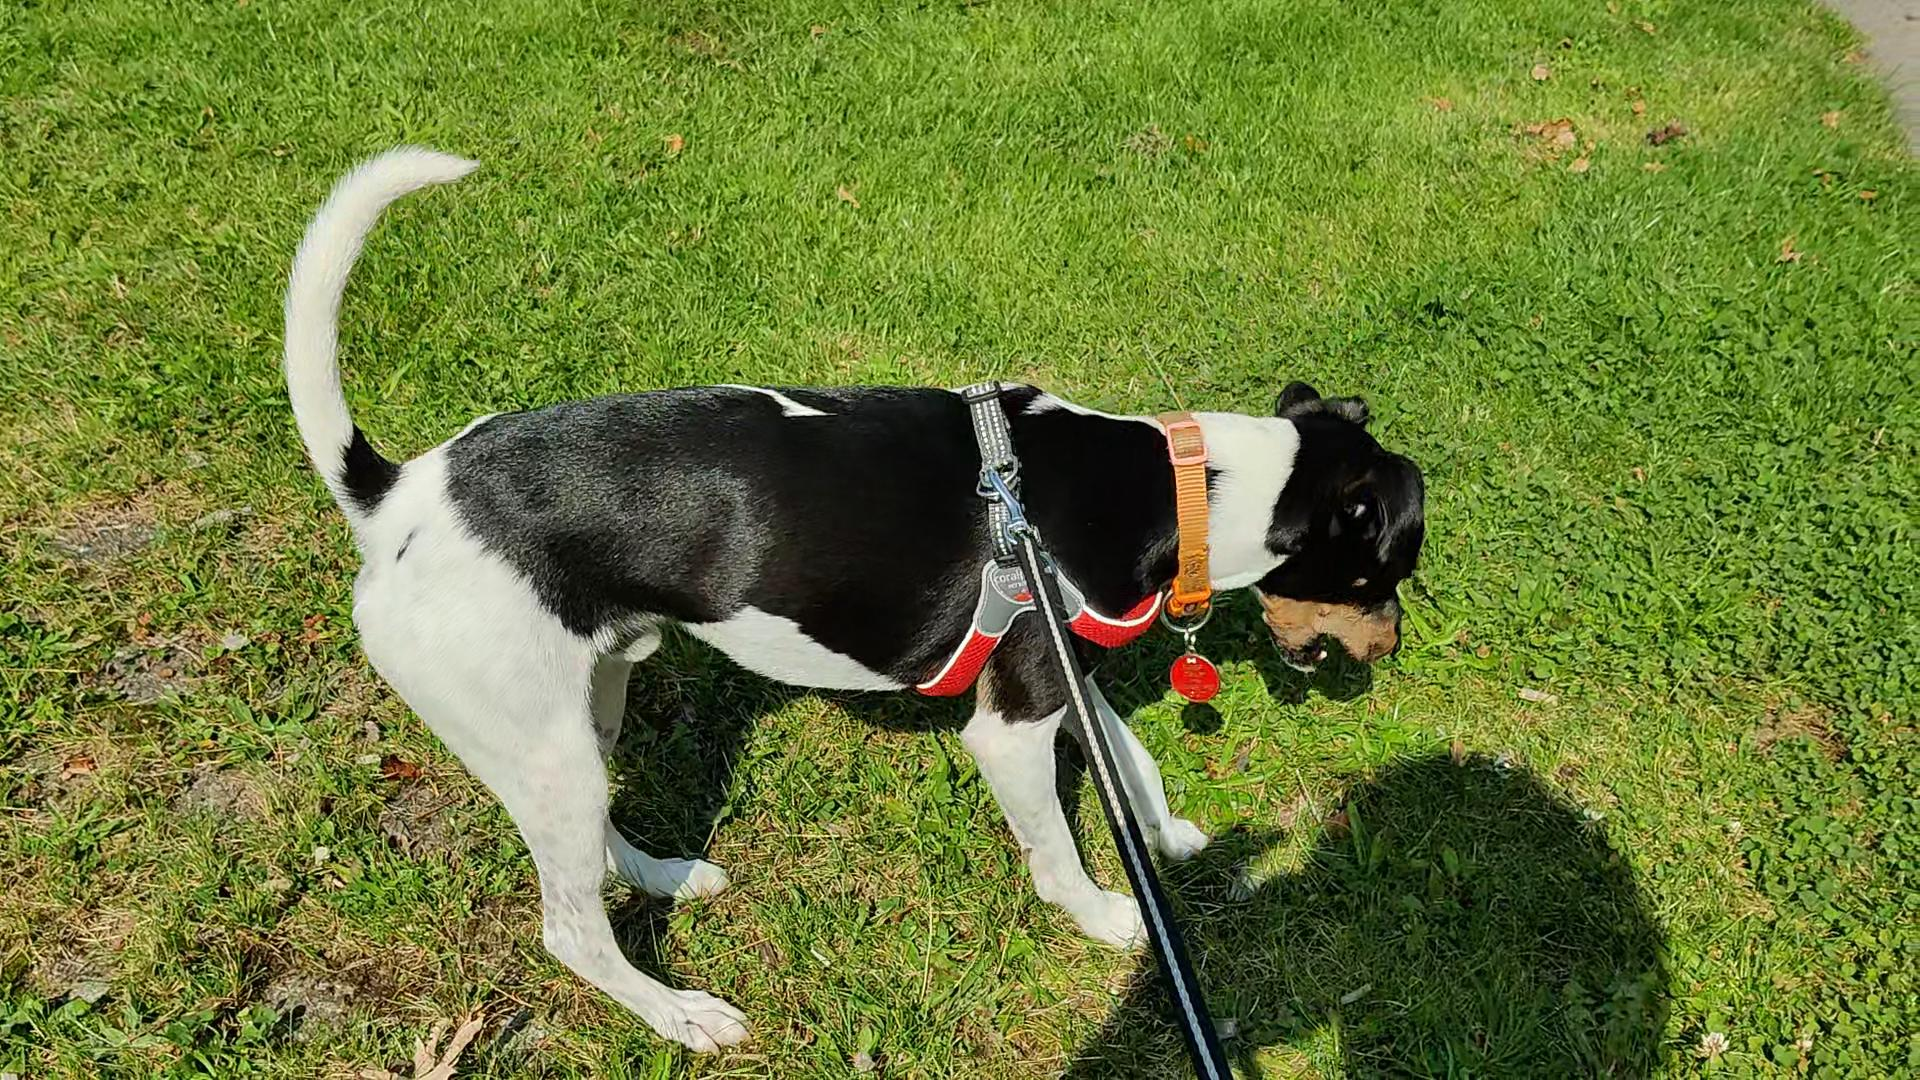Dog: (257, 136, 1439, 1062)
